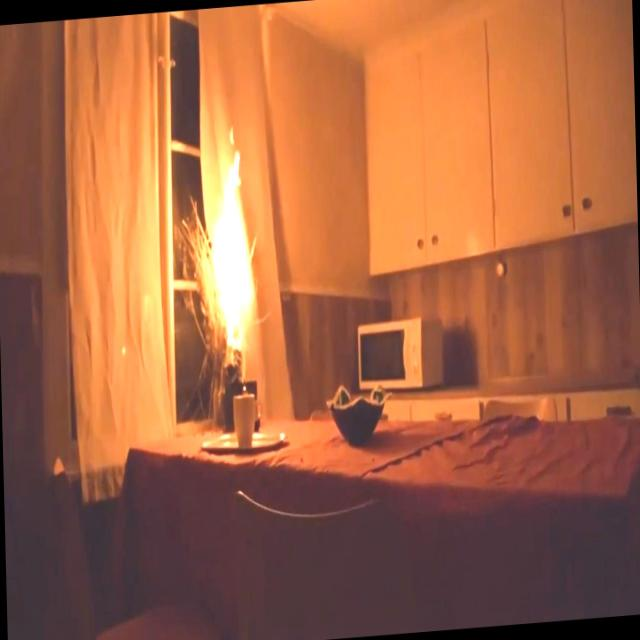fire: (196, 115, 276, 377)
